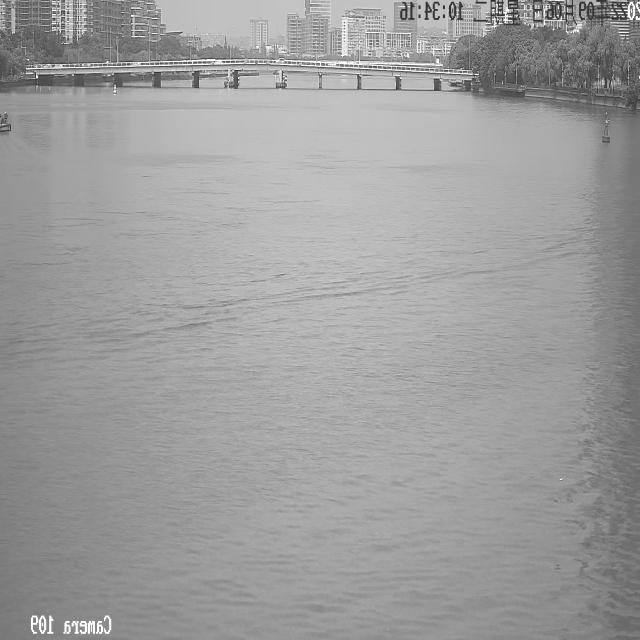ship: (0, 103, 12, 131)
